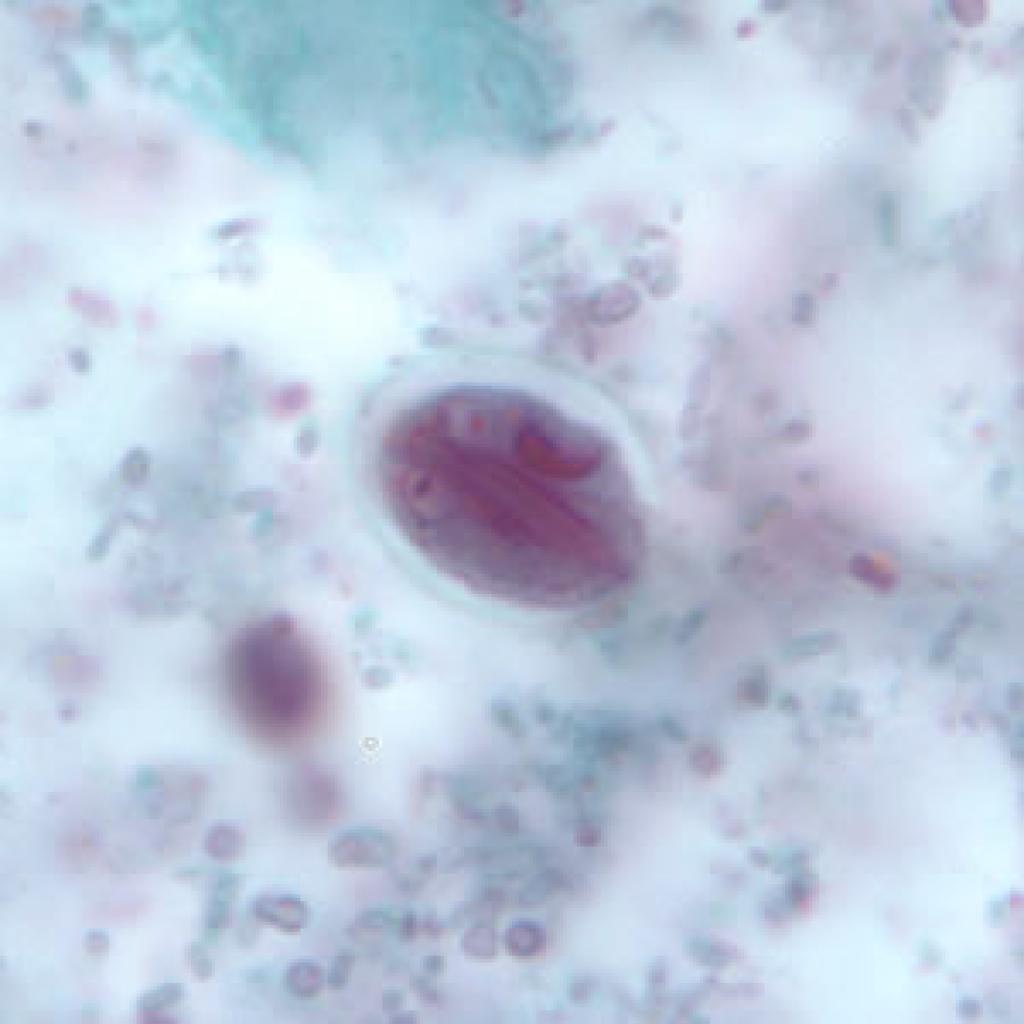Giardia: (338, 348, 669, 638)
